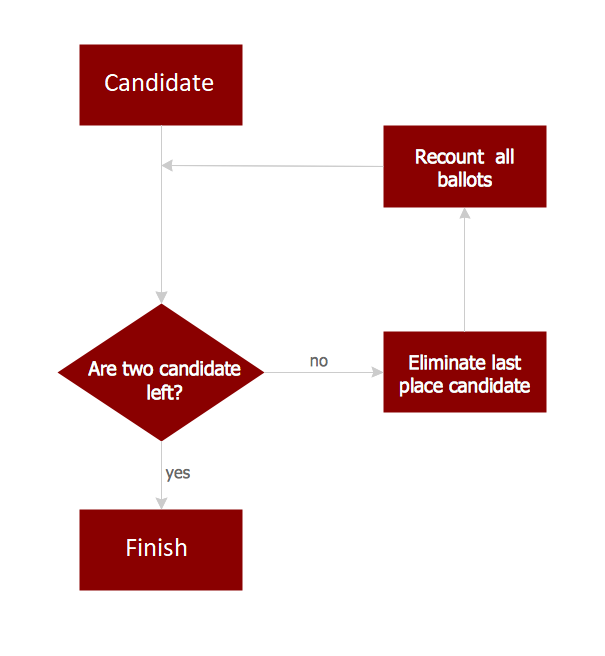arrow: (159, 156, 388, 177), (154, 125, 171, 306), (457, 205, 474, 334), (259, 364, 382, 380), (153, 437, 169, 510)
decision: (53, 301, 265, 440)
process: (380, 326, 549, 415), (77, 41, 246, 130), (76, 506, 245, 593)
text: (86, 358, 245, 403), (396, 352, 532, 399), (412, 145, 518, 190), (102, 70, 216, 94), (124, 534, 188, 560), (163, 465, 194, 483), (308, 354, 330, 370)
